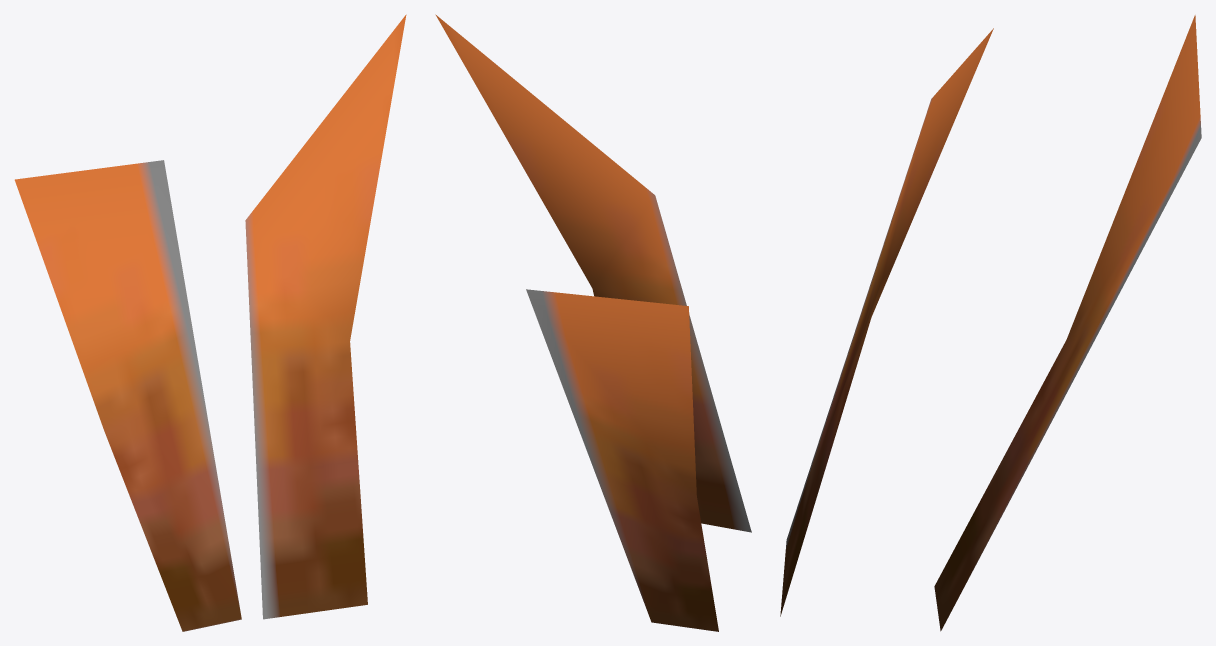
Rendered from fg_grassC.dae.
3 views of the same model, side by side, from view 1: azimuth 30°, elevation 25°; view 2: azimuth 150°, elevation 25°; view 3: azimuth 270°, elevation 25° (orthographic). The views are drawn at different scales.
Visible parts, largest first — view 1: fg_grassC; view 2: fg_grassC; view 3: fg_grassC.
Part boxes in pixels (left/top/right/bottom): fg_grassC: left=14, top=14, right=406, bottom=631; fg_grassC: left=435, top=14, right=751, bottom=631; fg_grassC: left=780, top=15, right=1201, bottom=631.
Bounding box in the file's own units: 14.53 × 23.97 × 12.64.
1 material, 1 textured.
